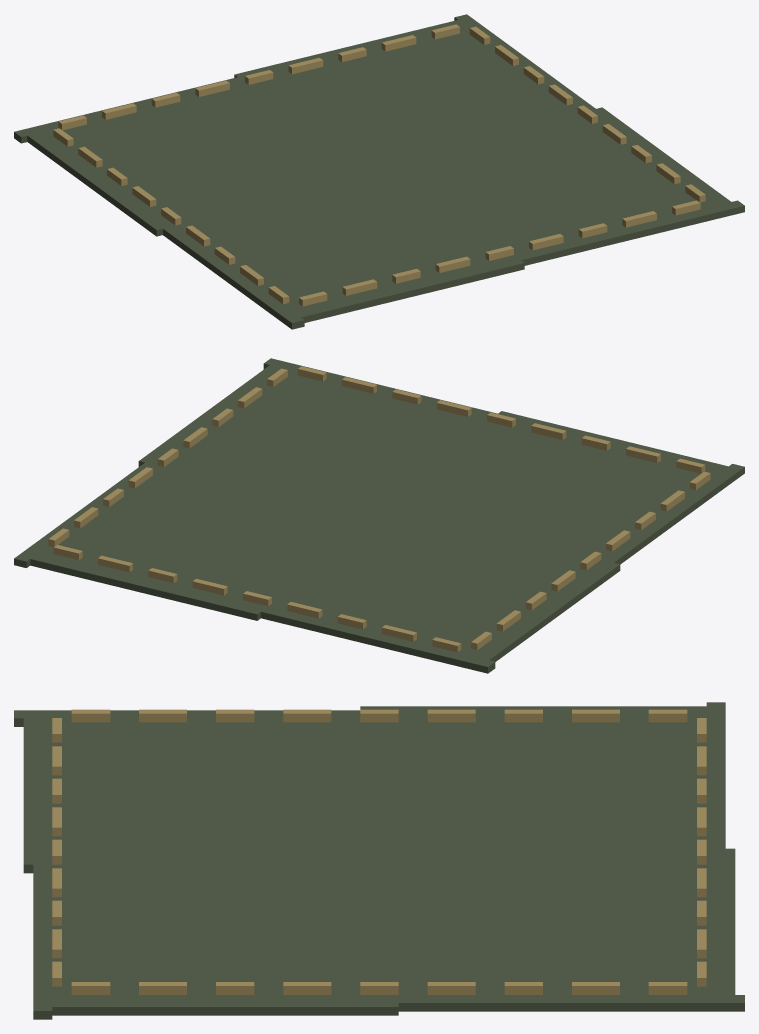
File: nomex.glb
3 renders of one model, top to bottom at view 1: azimuth 30°, elevation 25°; view 2: azimuth 150°, elevation 25°; view 3: azimuth 270°, elevation 25°, orthographic. The views are drawn at different scales.
Visible parts, largest first — view 1: nomex:compound; view 2: nomex:compound; view 3: nomex:compound.
Part boxes in pixels (x1,y1,x2,y2): nomex:compound: [14, 14, 744, 329]; nomex:compound: [14, 358, 744, 673]; nomex:compound: [14, 702, 744, 1019].
Size of the model in its own units: 0.152 by 0.004 by 0.152.
